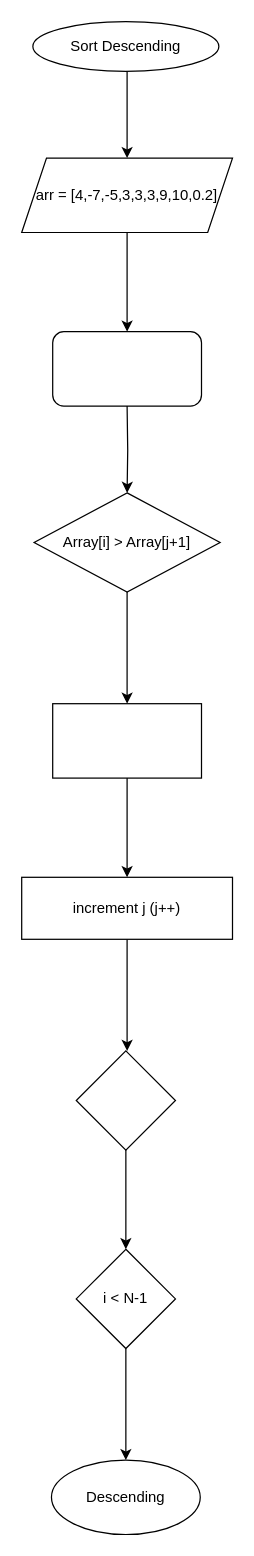
Some shapes in this 254 by 1556 pixel diagram are drawn without their labels. The shapes that lost their labels are listed below. From the top down, each one's centre as x and y in pixels, then its label:
At point 126,368: "i = 0 j = 0".
At point 126,740: "Swap(Arr[j].Arr[j+1] = Arr[j+1],Arr[j]".
At point 125,1100: "j < n-i - 1".
